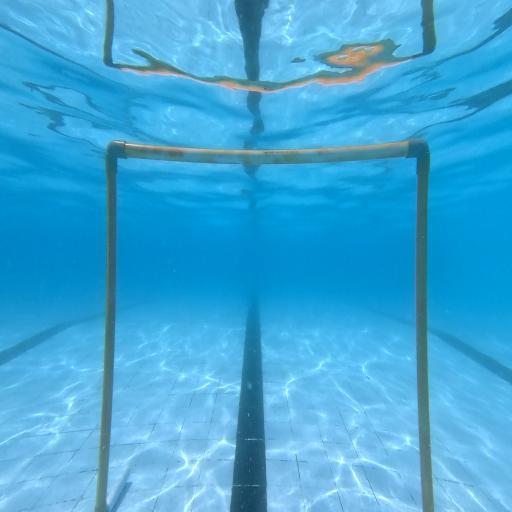gate: (95, 140, 434, 512)
